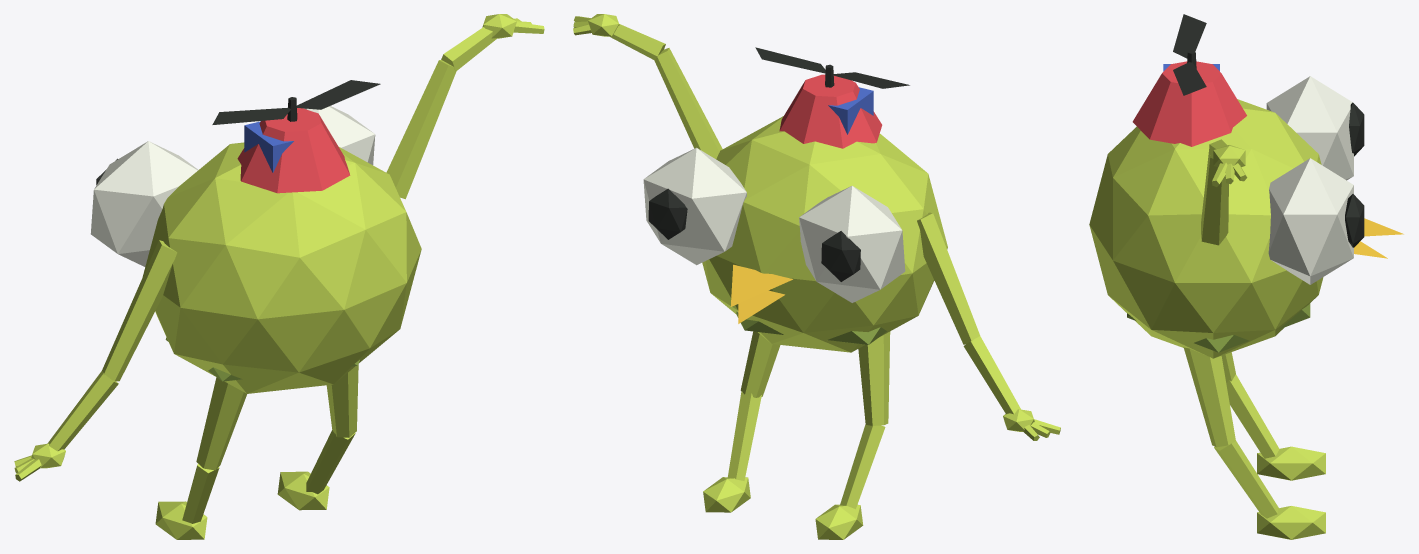
The model's file is BingBong.fbx.
The picture shows the model from 3 angles, left to right: view 1: azimuth 30°, elevation 25°; view 2: azimuth 150°, elevation 25°; view 3: azimuth 270°, elevation 25°; orthographic projection. The views are drawn at different scales.
Parts seen in each view (by area): view 1: Body, Eye1, Hat, UpperArm1, UpperArm-1, Thigh1, Eye-1, Forearm1, Thigh-1, Foot-1, Foot1, Shin-1 (+6 smaller); view 2: Body, Eye1, Eye-1, Hat, UpperArm1, UpperArm-1, Thigh1, Shin-1, Shin1, Thigh-1, Forearm1, Pupil1 (+11 smaller); view 3: Body, Eye-1, Hat, Eye1, Thigh-1, Foot1, Foot-1, UpperArm-1, Shin-1, Shin1, PropellerBlade1, Pupil-1 (+5 smaller).
Boxes of the visible parts, left/top/right/bottom form: Body: left=142, top=142, right=421, bottom=393; Eye1: left=90, top=141, right=198, bottom=266; Hat: left=237, top=108, right=350, bottom=193; UpperArm1: left=101, top=240, right=177, bottom=381; UpperArm-1: left=386, top=60, right=457, bottom=199; Thigh1: left=196, top=377, right=246, bottom=470; Eye-1: left=303, top=106, right=375, bottom=164; Forearm1: left=47, top=371, right=118, bottom=451; Thigh-1: left=326, top=364, right=358, bottom=437; Foot-1: left=277, top=471, right=329, bottom=510; Foot1: left=155, top=501, right=207, bottom=539; Shin-1: left=306, top=430, right=355, bottom=494; Body: left=702, top=116, right=947, bottom=352; Eye1: left=799, top=185, right=905, bottom=302; Eye-1: left=643, top=147, right=746, bottom=265; Hat: left=779, top=74, right=882, bottom=148; UpperArm1: left=917, top=212, right=980, bottom=344; UpperArm-1: left=654, top=48, right=722, bottom=158; Thigh1: left=858, top=331, right=890, bottom=425; Shin-1: left=727, top=391, right=761, bottom=480; Shin1: left=840, top=424, right=885, bottom=509; Thigh-1: left=740, top=331, right=780, bottom=397; Forearm1: left=963, top=336, right=1020, bottom=414; Pupil1: left=821, top=231, right=860, bottom=281; Body: left=1089, top=99, right=1323, bottom=358; Eye-1: left=1268, top=158, right=1353, bottom=284; Hat: left=1132, top=61, right=1246, bottom=146; Eye1: left=1266, top=76, right=1353, bottom=180; Thigh-1: left=1183, top=347, right=1235, bottom=447; Foot1: left=1257, top=446, right=1325, bottom=480; Foot-1: left=1257, top=506, right=1325, bottom=539; UpperArm-1: left=1201, top=148, right=1228, bottom=245; Shin-1: left=1214, top=441, right=1278, bottom=518; Shin1: left=1226, top=374, right=1279, bottom=458; PropellerBlade1: left=1173, top=14, right=1206, bottom=58; Pupil-1: left=1345, top=194, right=1364, bottom=247.
Size of the model in its own units: 1.12 by 0.97 by 0.585.
